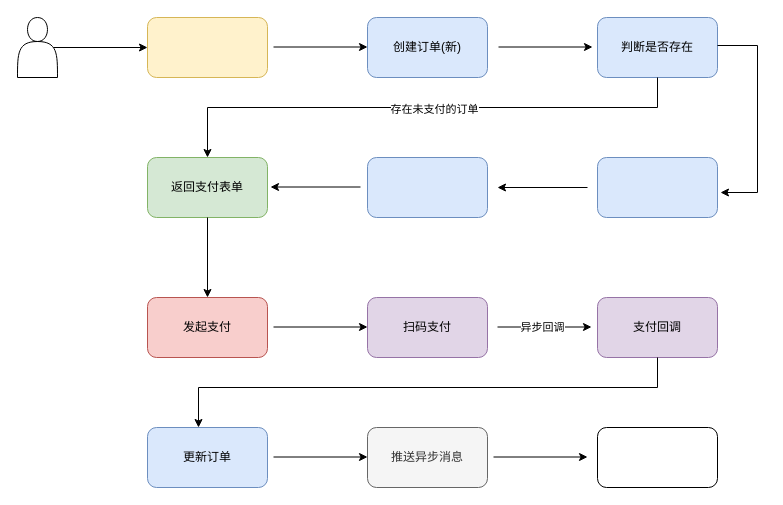
Some shapes in this 783 by 505 pixel diagram are drawn without their labels. The shapes that lost their labels are listed below. From the top down, each one's box as (x1, y1, x2, y2) in pixels, then its label:
(146, 16, 268, 78): 选择商品
(366, 156, 488, 218): 更新订单(未支付)
(596, 156, 718, 218): Alipay创建
(596, 426, 718, 488): 其他业务处理
